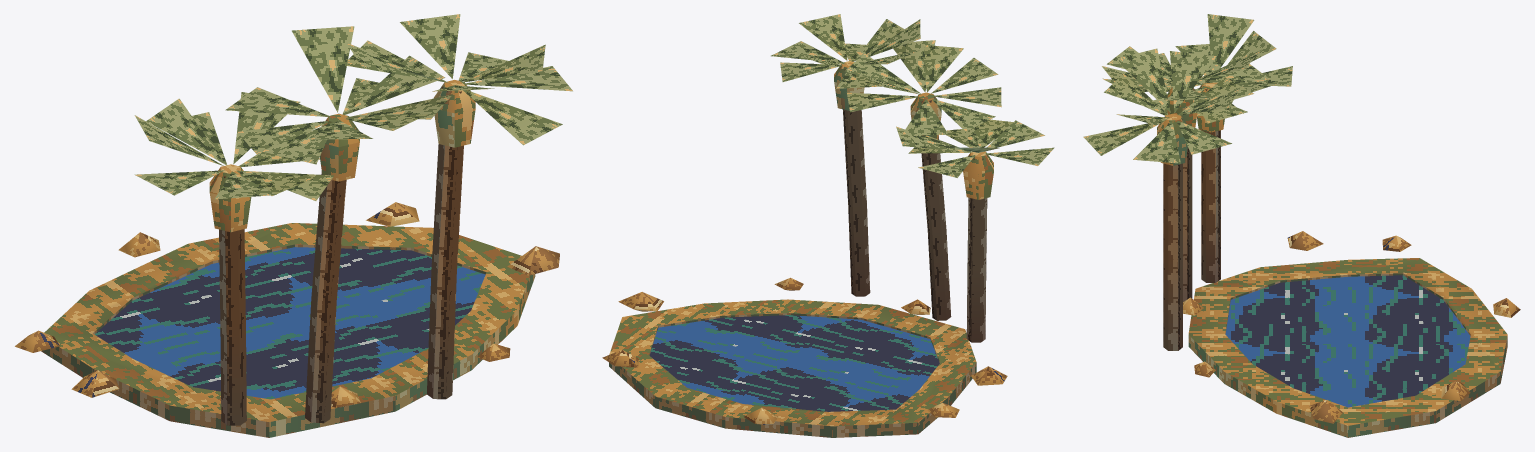
The model's file is wland.oasis__big.glb.
3 renders of one model, left to right at view 1: azimuth 30°, elevation 25°; view 2: azimuth 150°, elevation 25°; view 3: azimuth 270°, elevation 25°, orthographic. The views are drawn at different scales.
Visible parts, largest first — view 1: kit_water, kit_bank, kit_card_fronds_back, kit_trunks, kit_skirts, kit_rocks; view 2: kit_water, kit_bank, kit_card_fronds_back, kit_trunks, kit_rocks, kit_skirts; view 3: kit_water, kit_bank, kit_card_fronds_back, kit_trunks, kit_rocks, kit_skirts.
Boxes of the visible parts, left/top/right/bottom form: kit_water: left=94, top=247, right=485, bottom=399; kit_bank: left=41, top=223, right=535, bottom=437; kit_card_fronds_back: left=134, top=14, right=572, bottom=200; kit_trunks: left=219, top=86, right=463, bottom=425; kit_skirts: left=209, top=79, right=475, bottom=232; kit_rocks: left=15, top=202, right=559, bottom=407; kit_water: left=649, top=315, right=939, bottom=411; kit_bank: left=609, top=299, right=976, bottom=437; kit_card_fronds_back: left=771, top=14, right=1054, bottom=177; kit_trunks: left=840, top=66, right=987, bottom=342; kit_rocks: left=602, top=277, right=1007, bottom=424; kit_skirts: left=834, top=61, right=993, bottom=199; kit_water: left=1225, top=275, right=1470, bottom=407; kit_bank: left=1188, top=258, right=1507, bottom=437; kit_card_fronds_back: left=1083, top=14, right=1292, bottom=163; kit_trunks: left=1163, top=86, right=1220, bottom=350; kit_rocks: left=1183, top=231, right=1520, bottom=423; kit_skirts: left=1157, top=82, right=1224, bottom=165.
Size of the model in its own units: 10.04 by 7.03 by 9.8.
Materials: 6 (6 with a texture image).
